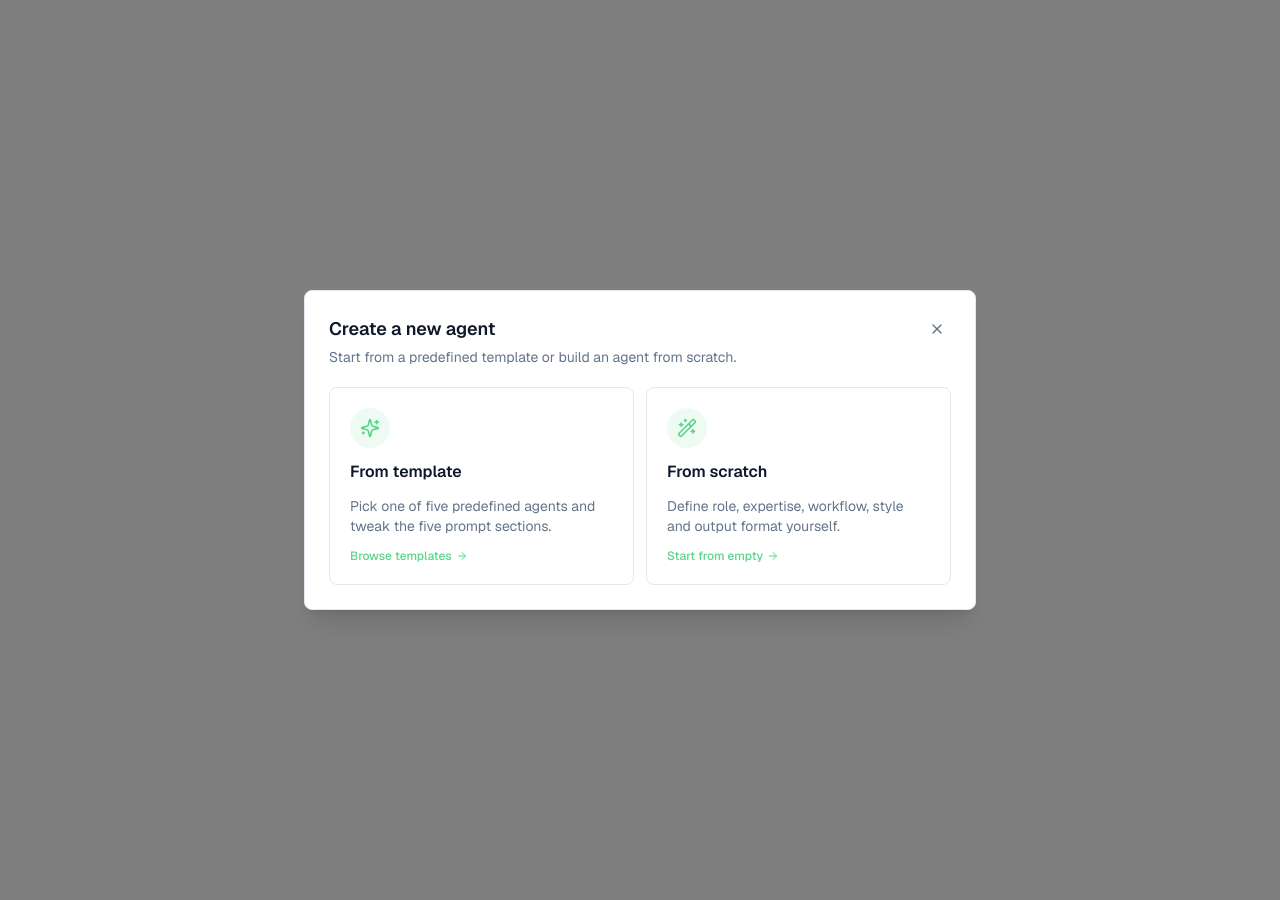
CreateAgentChoosePathDialog › should navigate to /agents/new/template when the template option is clicked
Click the button with aria-label "create agent from template". click: (370, 428)
box: [329,387,634,585]
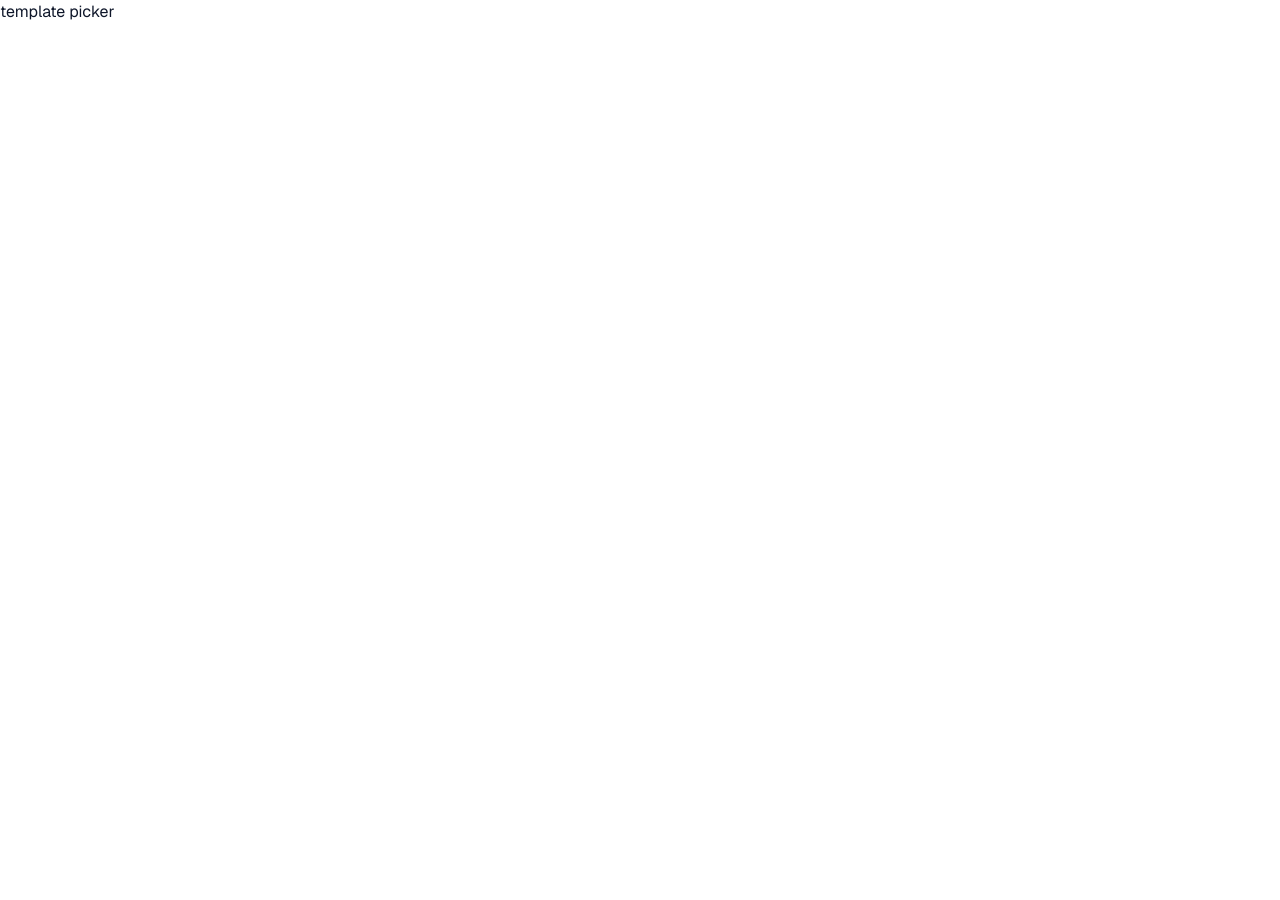
Check: the text "template picker" is shown, box [0,1,114,22]
